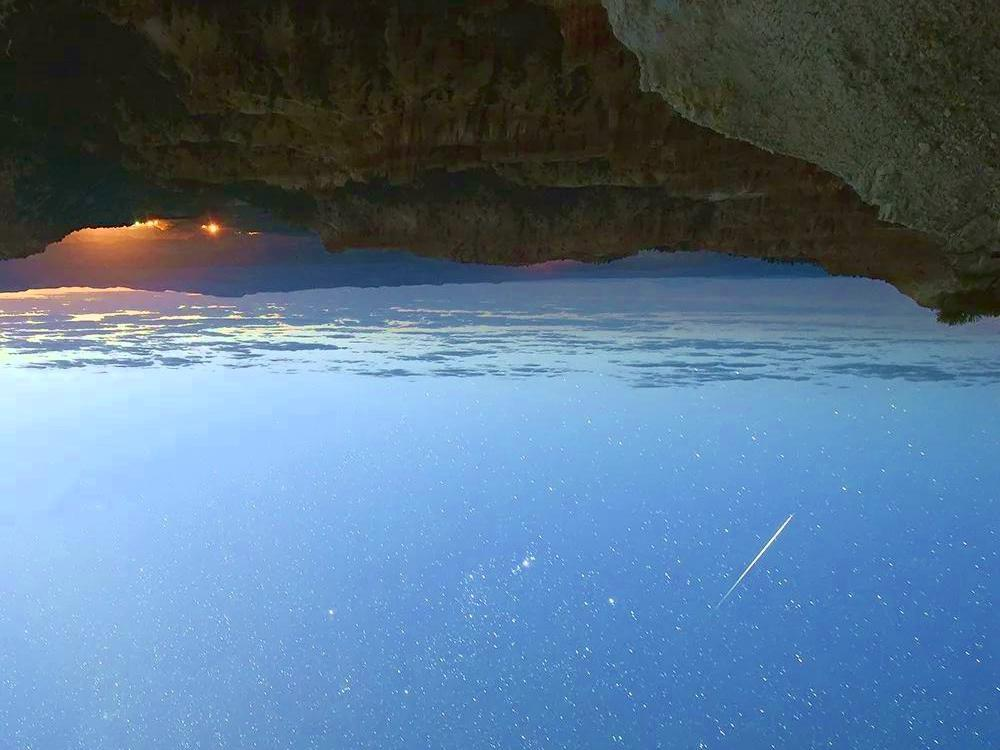meteorite: (703, 511, 814, 599)
